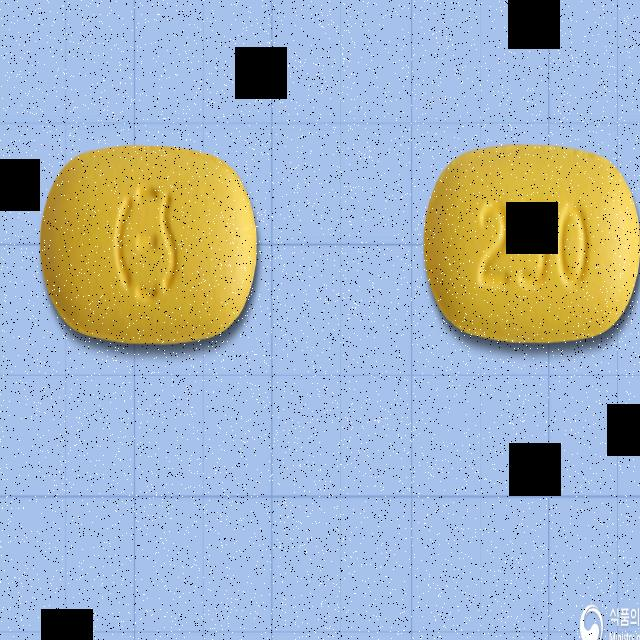Clarione -500mg: (38, 139, 263, 355), (420, 136, 640, 352)
